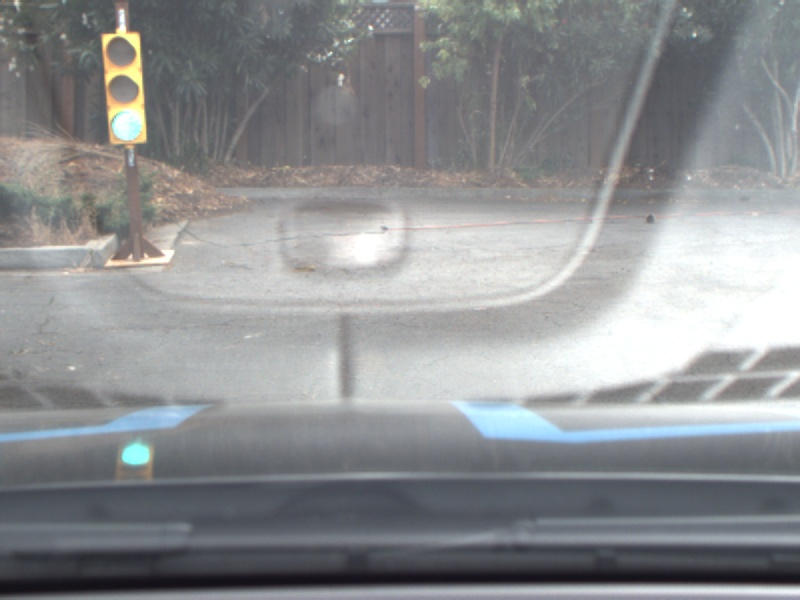green: (100, 24, 148, 150)
